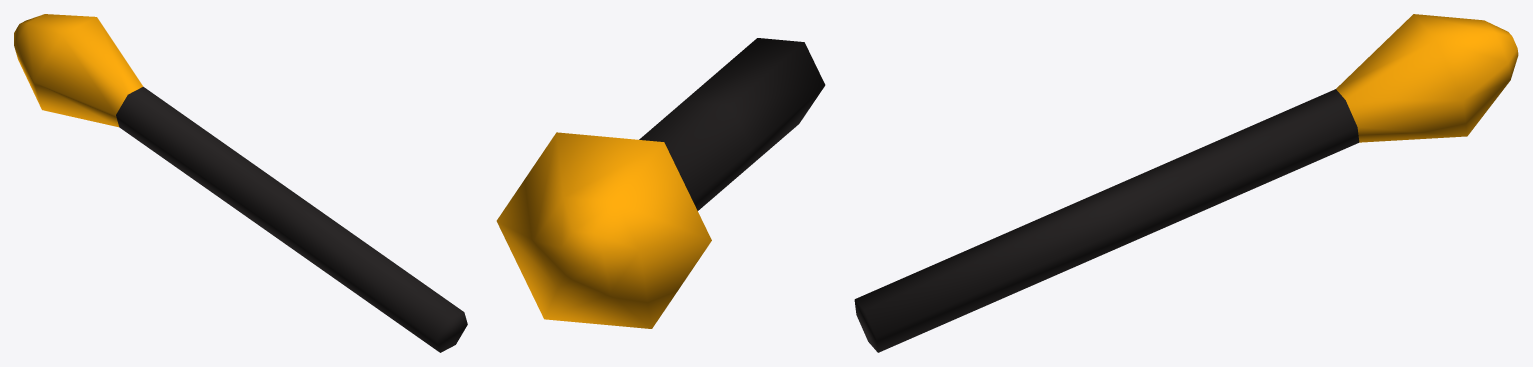
Rendered from Staff.gltf.
3 renders of one model, left to right at view 1: azimuth 30°, elevation 25°; view 2: azimuth 150°, elevation 25°; view 3: azimuth 270°, elevation 25°, orthographic. The views are drawn at different scales.
Parts seen in each view (by area): view 1: STAFF; view 2: STAFF; view 3: STAFF.
Part boxes in pixels (x1,y1,x2,y2): STAFF: (14,14,467,352); STAFF: (496,38,825,328); STAFF: (854,14,1518,352).
Bounding box in the file's own units: 0.1883 × 0.1637 × 0.4177.
Materials: 1 (1 with a texture image).
